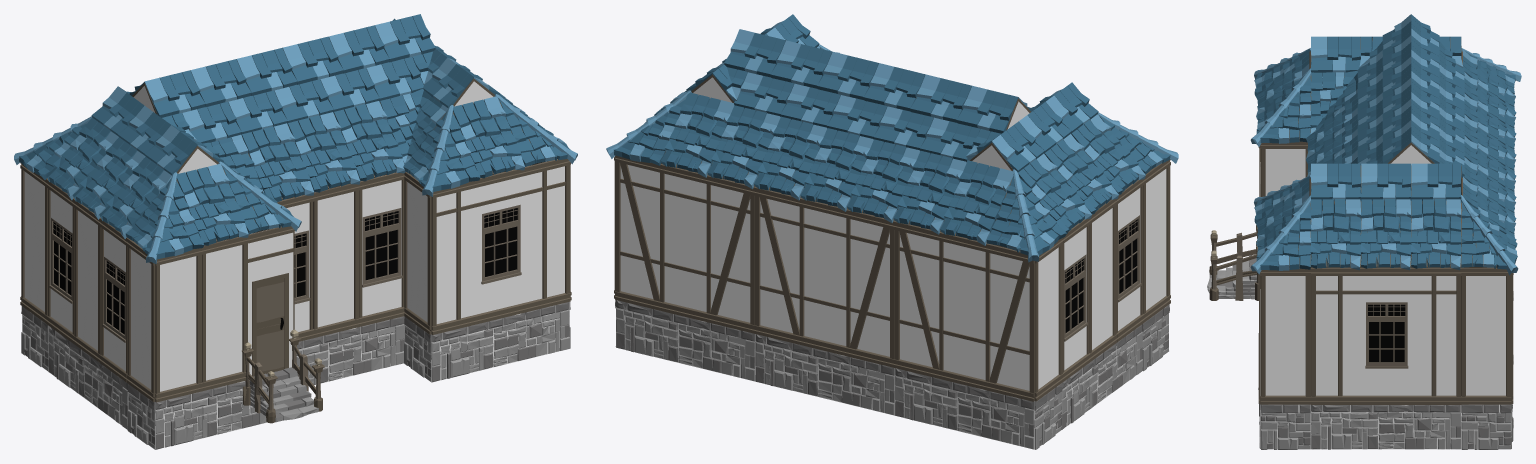
File: House_09_full.fbx
The picture shows the model from 3 angles, left to right: view 1: azimuth 30°, elevation 25°; view 2: azimuth 150°, elevation 25°; view 3: azimuth 270°, elevation 25°; orthographic projection. The views are drawn at different scales.
Parts seen in each view (by area): view 1: WINDOW_03_2, WALL_03_6, WALL_03_4, WINDOW_04_4, FOUNDATION_02_26, WALL_03_3, DOOR_01_3, FOUNDATION_02_25, FOUNDATION_02_24, STAIRS_06_4, WALL_03_7, WALL_03_8 (+40 smaller); view 2: WALL_02_4, WALL_02_3, WALL_02_2, FOUNDATION_02_28, FOUNDATION_02_29, FOUNDATION_02_30, WALL_03_9, WALL_03_8, WALL_03_7, WINDOW_04_6, WINDOW_04_5, FOUNDATION_02_31 (+31 smaller); view 3: WINDOW_03_3, WALL_03_12, WALL_03_11, FOUNDATION_02_27, ROOF_base_13, ROOF_base_12, ROOF_base_11, ROOF_corner_out_7, ROOF_corner_out_5, ROOF_corner_out_3, STAIRS_06_4, FOUNDATION_03_12 (+49 smaller).
Part boxes in pixels (box(x1,y1,x2,y2)): WINDOW_03_2: box(431, 159, 570, 334); WALL_03_6: box(313, 184, 359, 337); WALL_03_4: box(155, 248, 202, 402); WINDOW_04_4: box(359, 172, 404, 326); FOUNDATION_02_26: box(431, 302, 569, 382); WALL_03_3: box(201, 237, 248, 391); DOOR_01_3: box(247, 226, 294, 376); FOUNDATION_02_25: box(155, 381, 267, 449); FOUNDATION_02_24: box(296, 316, 404, 386); STAIRS_06_4: box(242, 329, 324, 423); WALL_03_7: box(126, 238, 155, 401); WALL_03_8: box(73, 199, 101, 362); WALL_02_4: box(894, 221, 1034, 401); WALL_02_3: box(754, 187, 894, 367); WALL_02_2: box(615, 155, 754, 333); FOUNDATION_02_28: box(616, 300, 755, 381); FOUNDATION_02_29: box(755, 334, 894, 415); FOUNDATION_02_30: box(895, 368, 1034, 449); WALL_03_9: box(1034, 238, 1063, 401); WALL_03_8: box(1089, 199, 1117, 361); WALL_03_7: box(1143, 159, 1170, 322); WINDOW_04_6: box(1062, 218, 1090, 381); WINDOW_04_5: box(1116, 179, 1143, 342); FOUNDATION_02_31: box(1061, 324, 1142, 429); WINDOW_03_3: box(1311, 267, 1461, 404); WALL_03_12: box(1461, 267, 1511, 404); WALL_03_11: box(1260, 268, 1310, 404); FOUNDATION_02_27: box(1311, 405, 1461, 449); ROOF_base_13: box(1410, 199, 1461, 270); ROOF_base_12: box(1360, 199, 1411, 270); ROOF_base_11: box(1310, 198, 1361, 270); ROOF_corner_out_7: box(1461, 195, 1518, 275); ROOF_corner_out_5: box(1250, 195, 1311, 274); ROOF_corner_out_3: box(1250, 68, 1311, 146); STAIRS_06_4: box(1207, 225, 1258, 300); FOUNDATION_03_12: box(1461, 404, 1511, 449).
Bounding box in the file's own units: 941 × 609 × 627.
